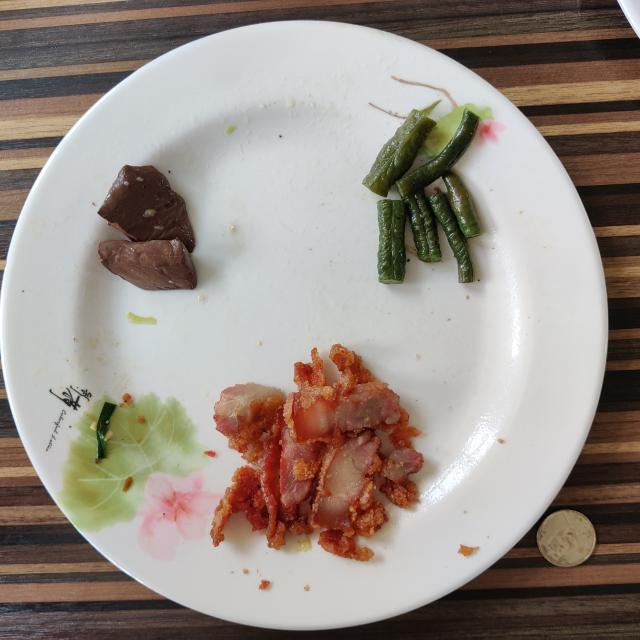coin: (536, 510, 596, 568)
pig blood curd: (98, 165, 198, 290)
red grilled pork: (210, 344, 424, 561)
